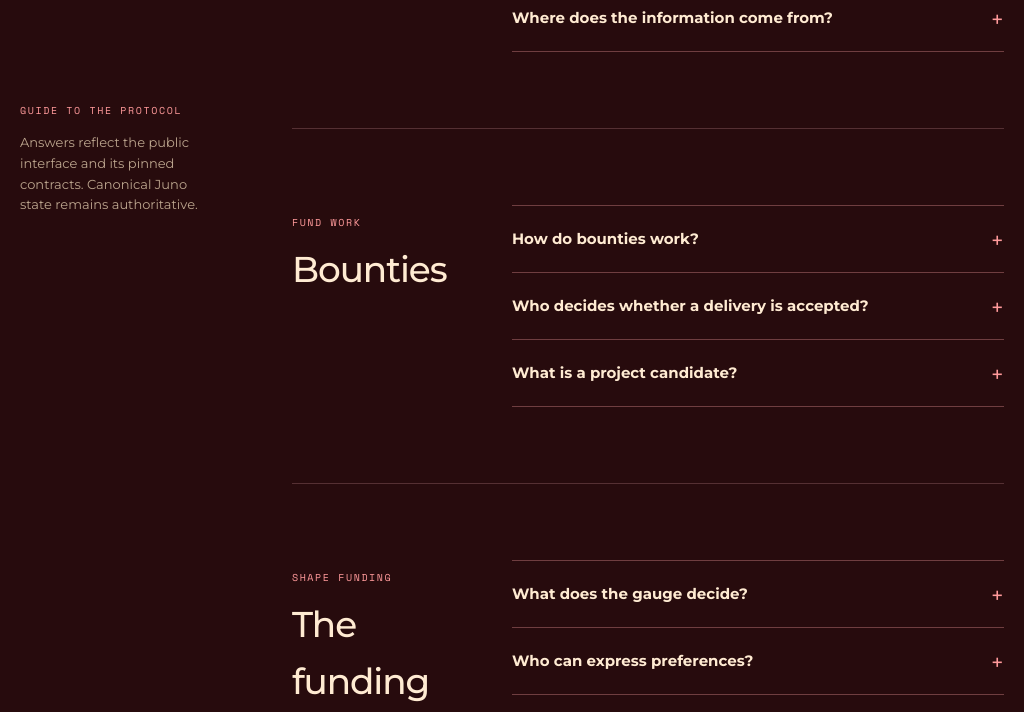
Test: FAQ page › organizes protocol guidance by topic with progressive disclosure
(page scrolled)
Click the heading "What is a project candidate? +" at (625, 372), box [512, 356, 1004, 390]
(page scrolled)
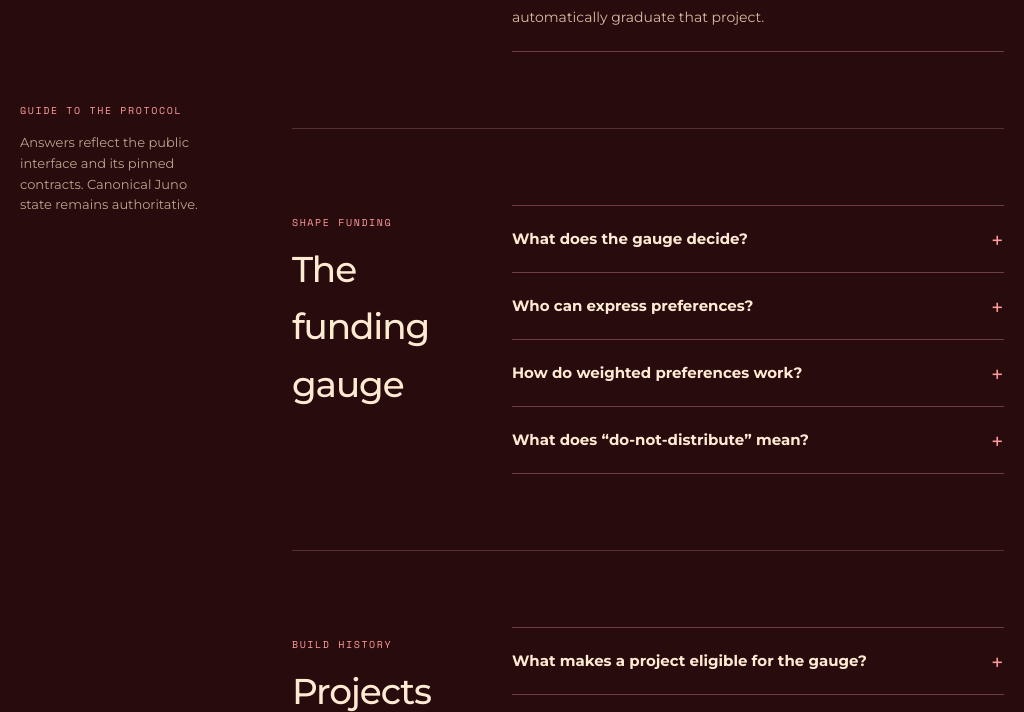
Click the heading "How do weighted preferences work? +" at (758, 373), box [512, 356, 1004, 390]
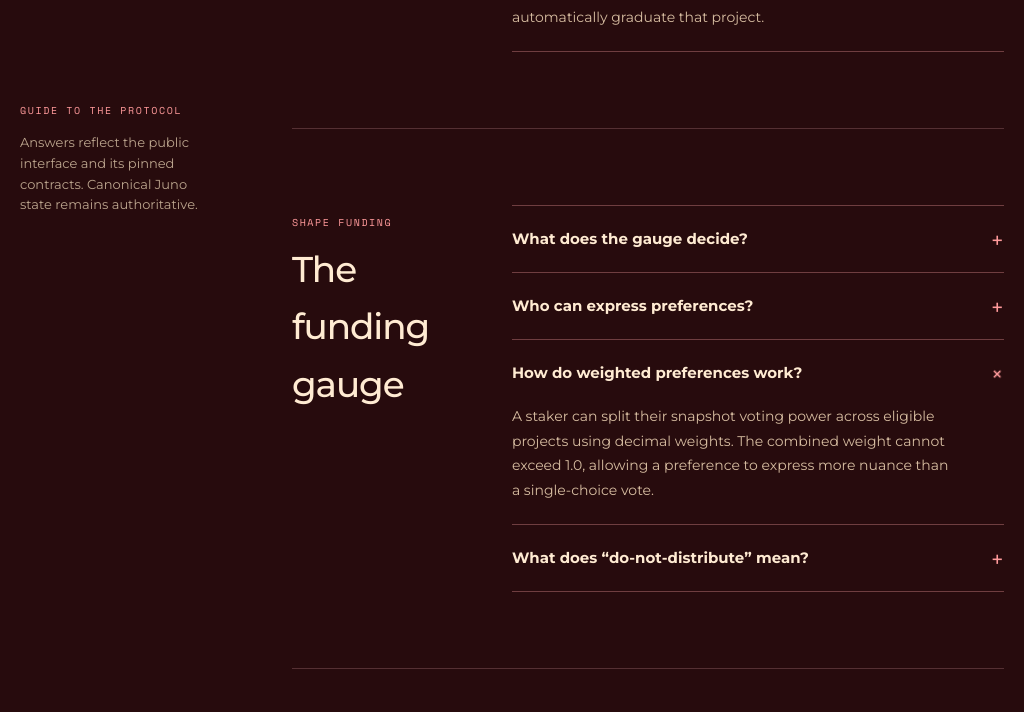
Expected: the text "split their snapshot voting power" is shown, [512, 407, 948, 498]
